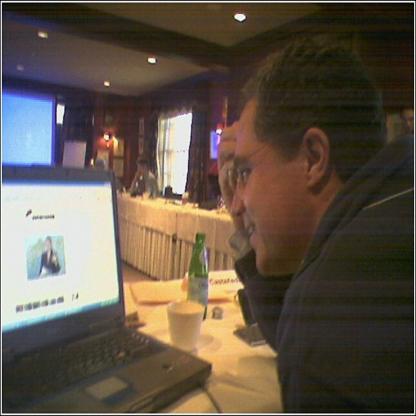board: (23, 151, 182, 416), (166, 298, 206, 362), (186, 229, 210, 317)
